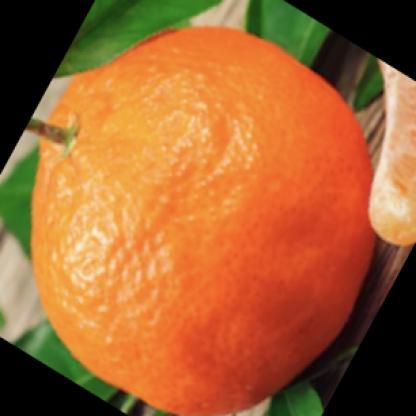fresh: (30, 28, 375, 416)
